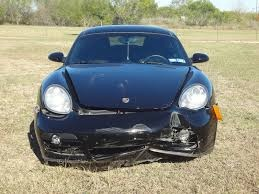Dent: (145, 115, 203, 151)
